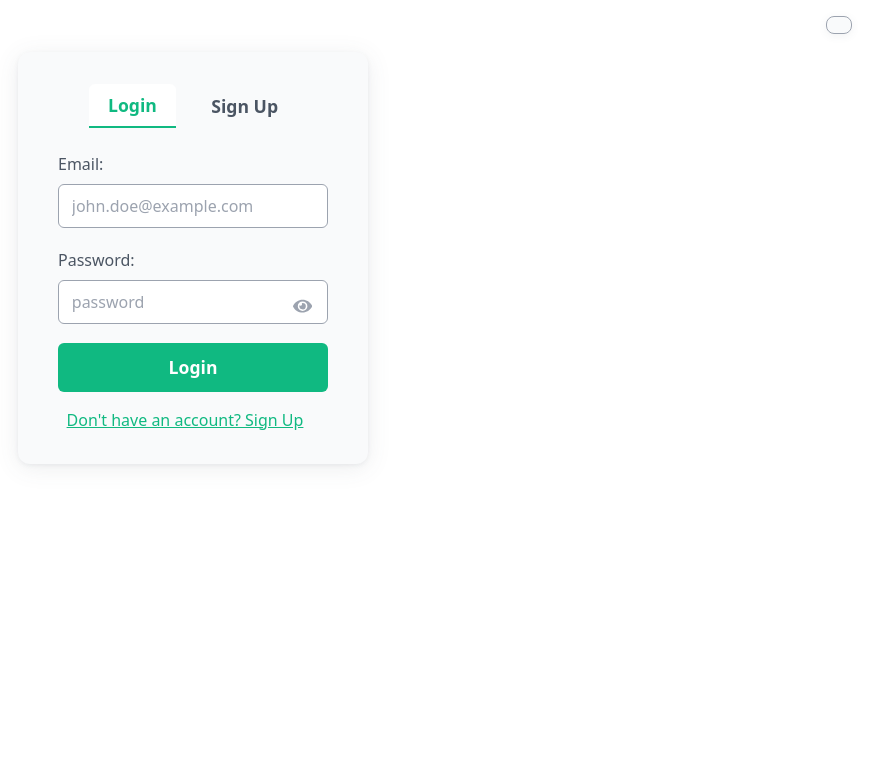
App Component › shows error for weak password in signup form
Click the button "Sign Up" at x=245, y=106, box [192,84,297,128]
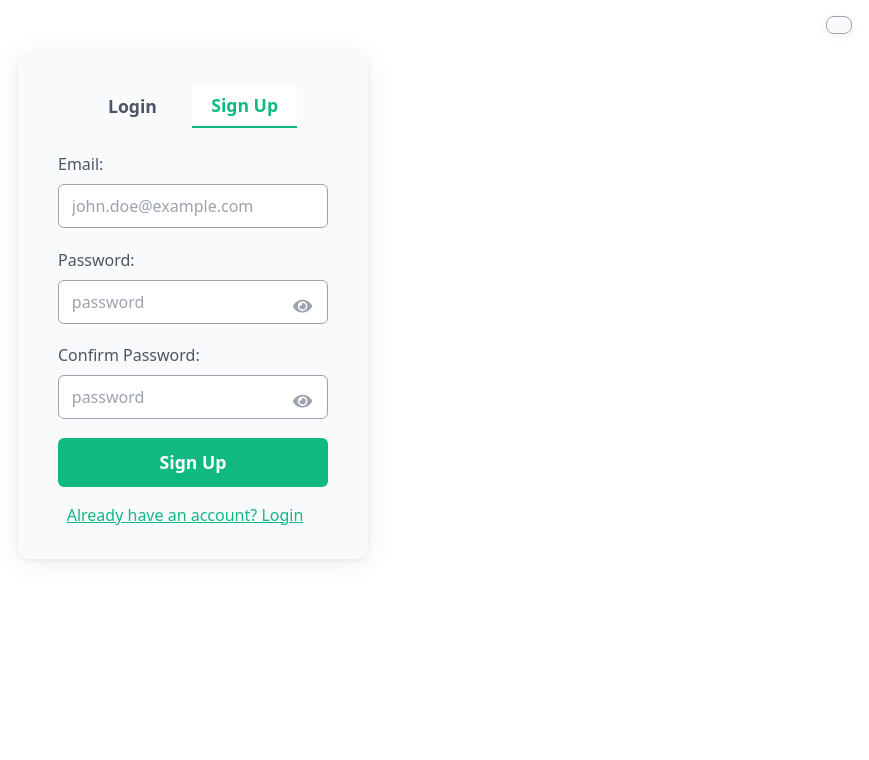
Type "newuser@example.com" into the field with id "signup-email" at x=193, y=206, box [58,184,328,228]
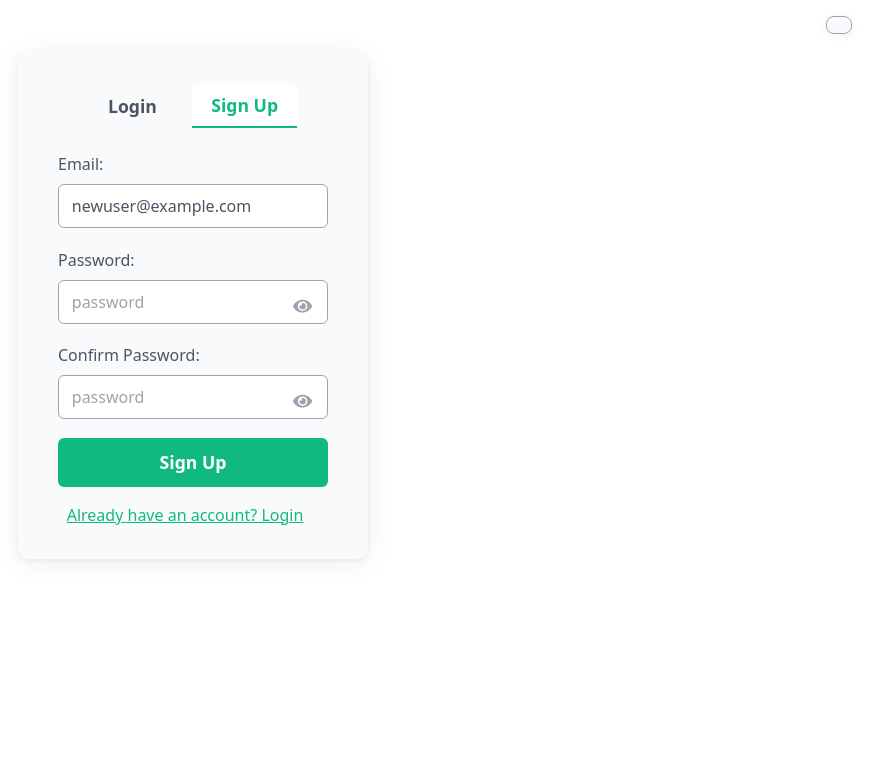
Type "weak" into the password field with id "signup-password" at x=193, y=302, box [58,280,328,324]
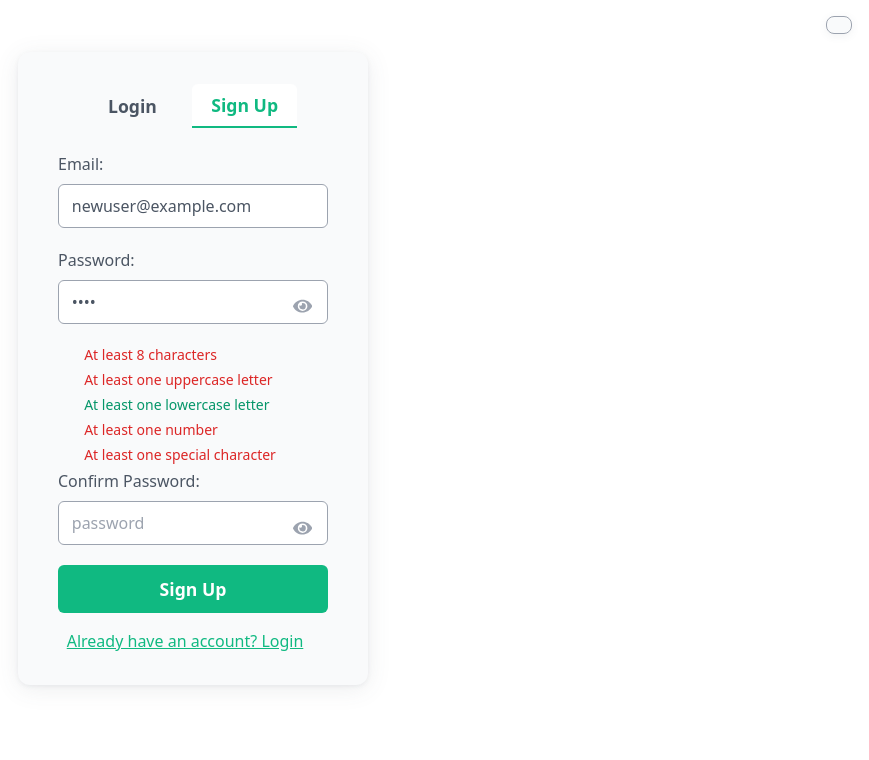
Type "weak" into the password field with id "signup-confirm" at x=193, y=523, box [58,501,328,545]
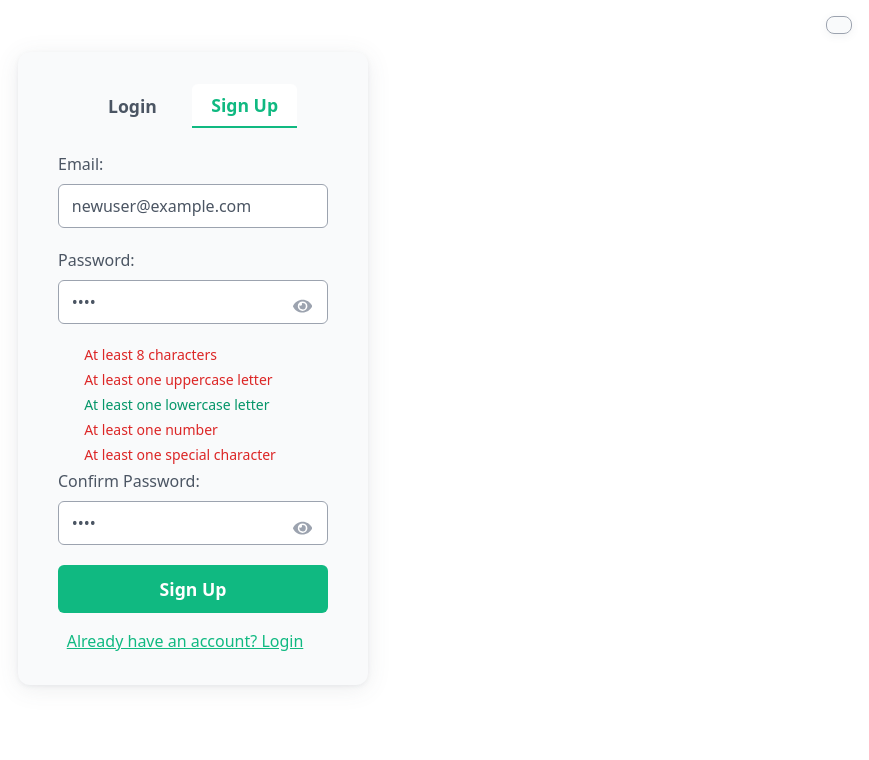
Click the button "Sign Up" below "Confirm Password:" at x=193, y=589, box [58,564,328,613]
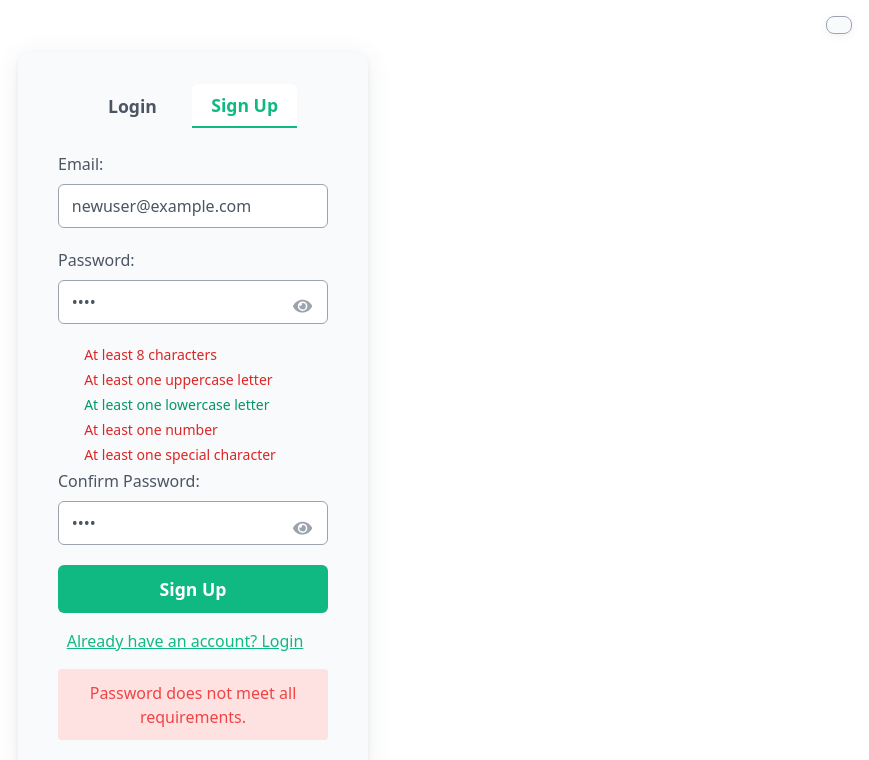
Check: the text "Password does not meet all requirements." is shown, box [58,669,328,740]
